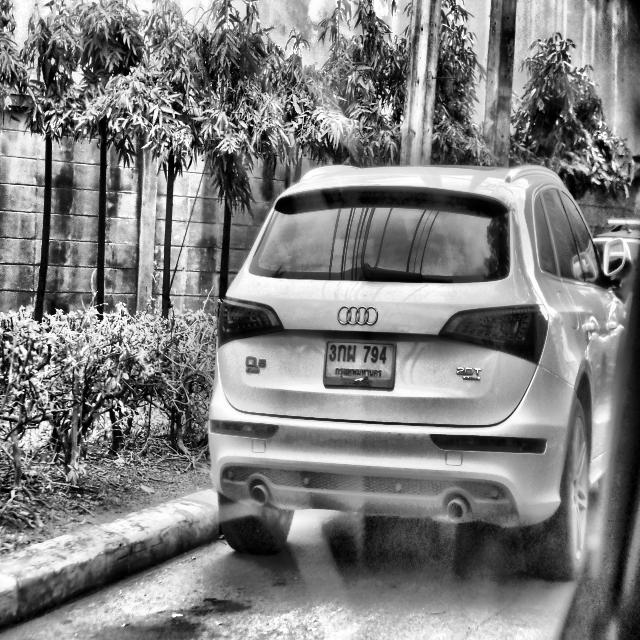license-plate: (323, 324, 398, 394)
